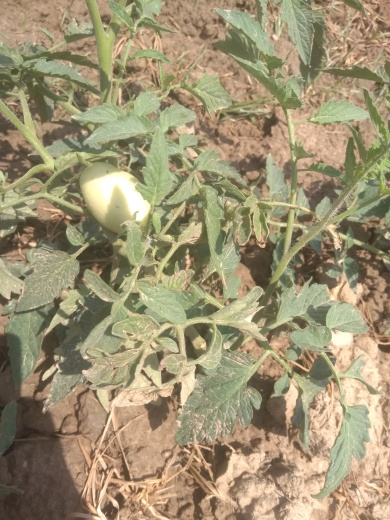tomato: (63, 150, 167, 247)
tomato plant: (1, 21, 372, 371)
